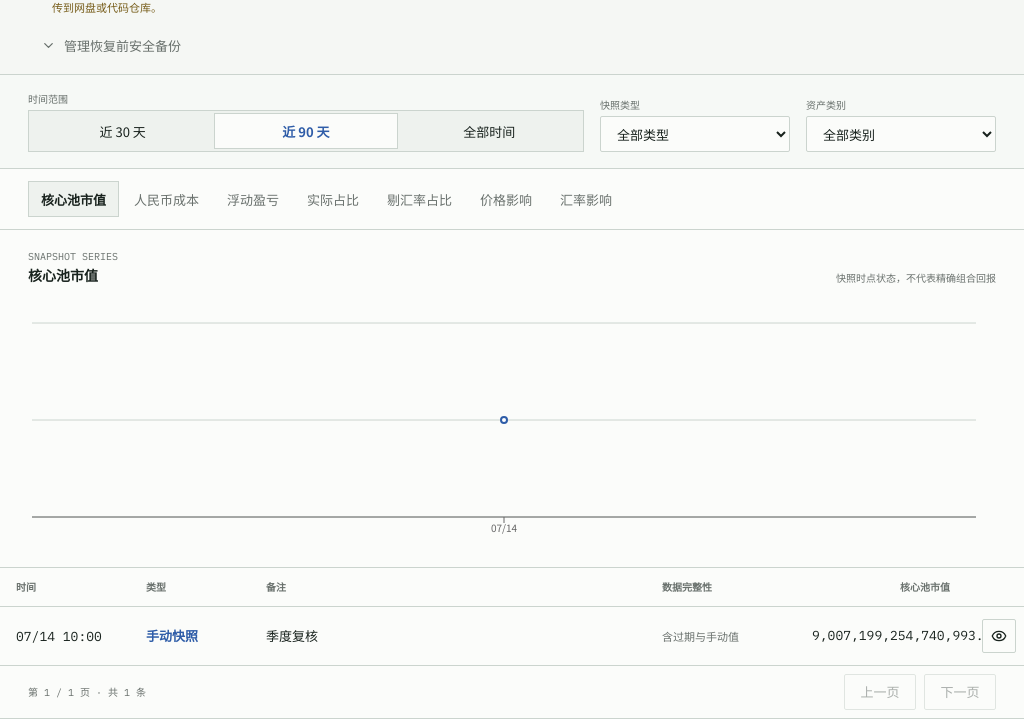
SnapshotsPage › uses the same combined completeness label in table and detail
(page scrolled)
Expected: the row "07/14 10:00 手动快照 季度复核 含过期与手动值 9,007,199,254,740,993.12" is shown, [0,606,1023,665]
Click the button named "查看详情" at coordinates (999, 636), box [982,619,1016,653]
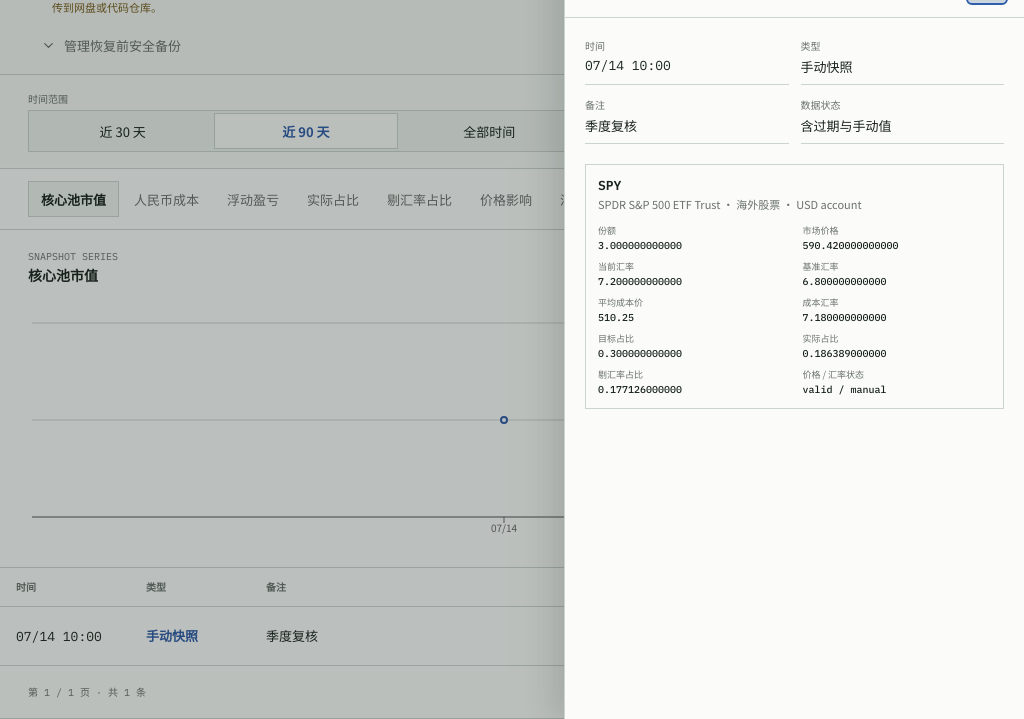
Expected: the dialog "快照详情" shows "含过期与手动值", [800,118,892,135]
